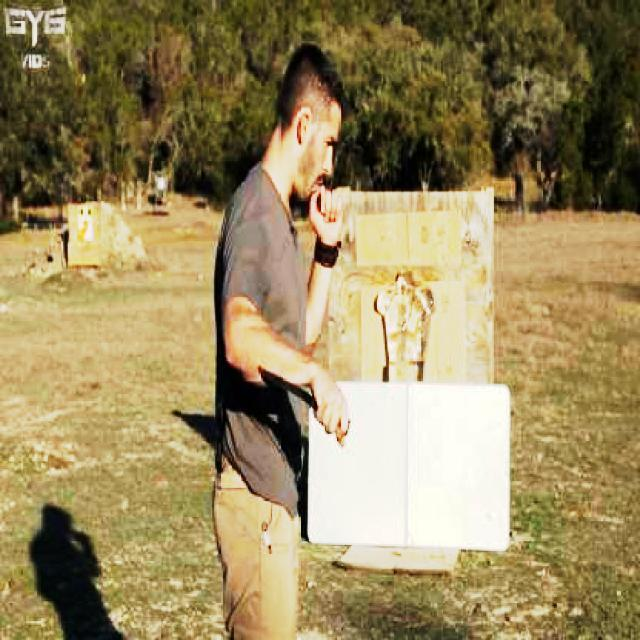Knife: (250, 364, 346, 437)
